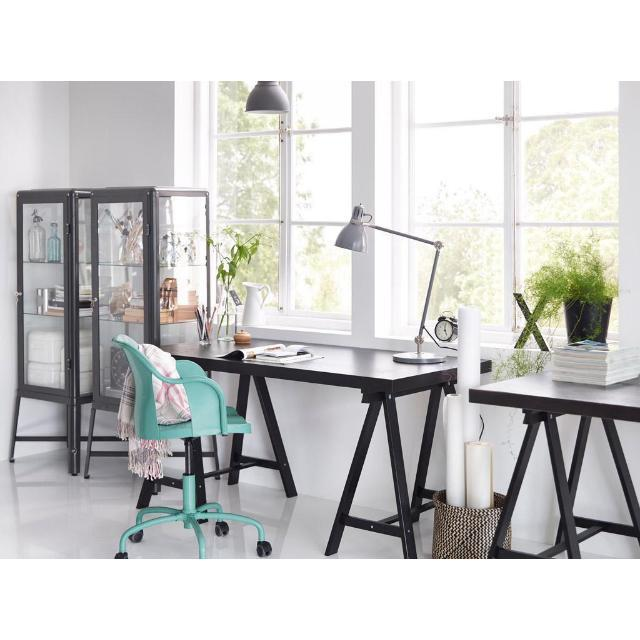chair: (112, 335, 271, 558)
lamp: (335, 204, 445, 363)
light: (245, 81, 290, 114)
plant: (526, 234, 619, 342)
shelf: (90, 187, 211, 430), (10, 188, 92, 475)
table: (166, 342, 458, 558), (469, 372, 640, 558)
